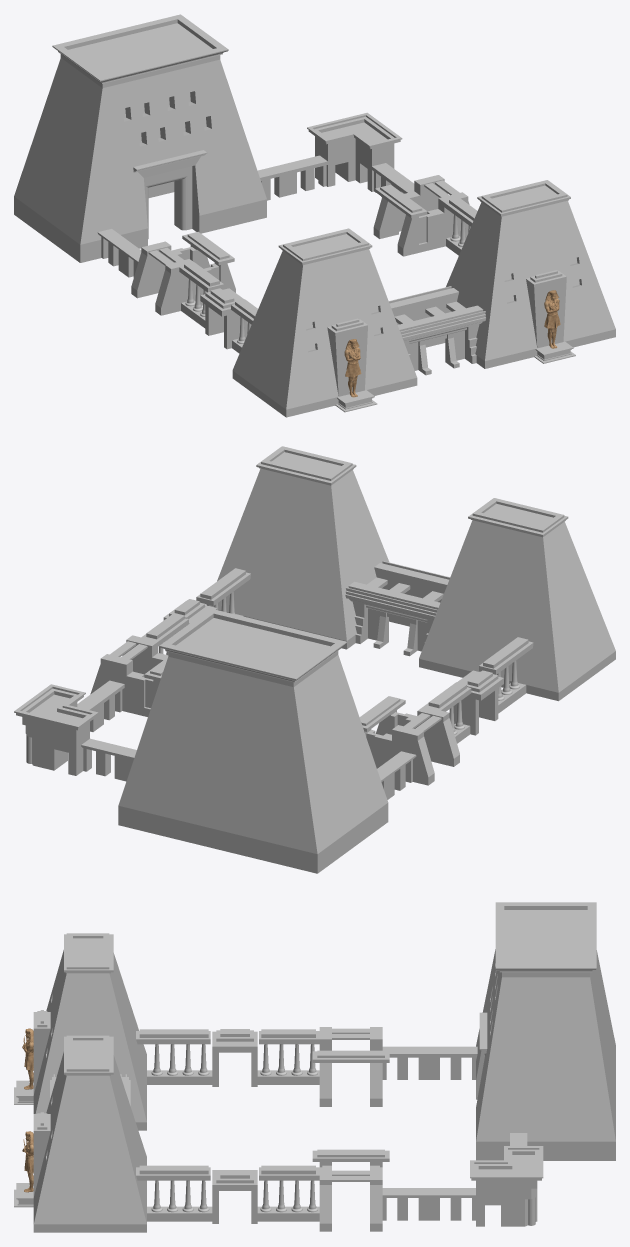
File: temple2.fbx
3 renders of one model, top to bottom at view 1: azimuth 30°, elevation 25°; view 2: azimuth 150°, elevation 25°; view 3: azimuth 270°, elevation 25°, orthographic. The views are drawn at different scales.
Visible parts, largest first — view 1: temple2_3, temple2_42, temple2_41, temple2_1, temple2_51, temple2_52, temple2_2, statue3_1, statue3_2; view 2: temple2_3, temple2_42, temple2_41, temple2_51, temple2_1, temple2_2, temple2_52; view 3: temple2_3, temple2_41, temple2_42, temple2_1, temple2_52, temple2_51, statue3_1, statue3_2.
Boxes of the visible parts, x1,y1,x2,y2 form: temple2_3: (14, 14, 266, 262); temple2_42: (232, 228, 417, 417); temple2_41: (446, 180, 615, 368); temple2_1: (97, 112, 414, 277); temple2_51: (131, 231, 257, 353); temple2_52: (373, 175, 477, 256); temple2_2: (389, 286, 485, 375); statue3_1: (344, 339, 361, 397); statue3_2: (544, 290, 560, 348); temple2_3: (118, 608, 388, 873); temple2_42: (419, 498, 615, 701); temple2_41: (210, 446, 389, 649); temple2_51: (359, 637, 533, 785); temple2_1: (14, 680, 416, 799); temple2_2: (345, 561, 449, 656); temple2_52: (90, 568, 250, 716); temple2_3: (476, 902, 615, 1160); temple2_41: (14, 1035, 146, 1232); temple2_42: (14, 933, 146, 1130); temple2_1: (382, 1046, 543, 1226); temple2_52: (136, 1149, 389, 1231); temple2_51: (136, 1027, 389, 1106); statue3_1: (22, 1028, 33, 1089); statue3_2: (22, 1131, 33, 1192).
Size of the model in its own units: 1392 by 680 by 2085.
